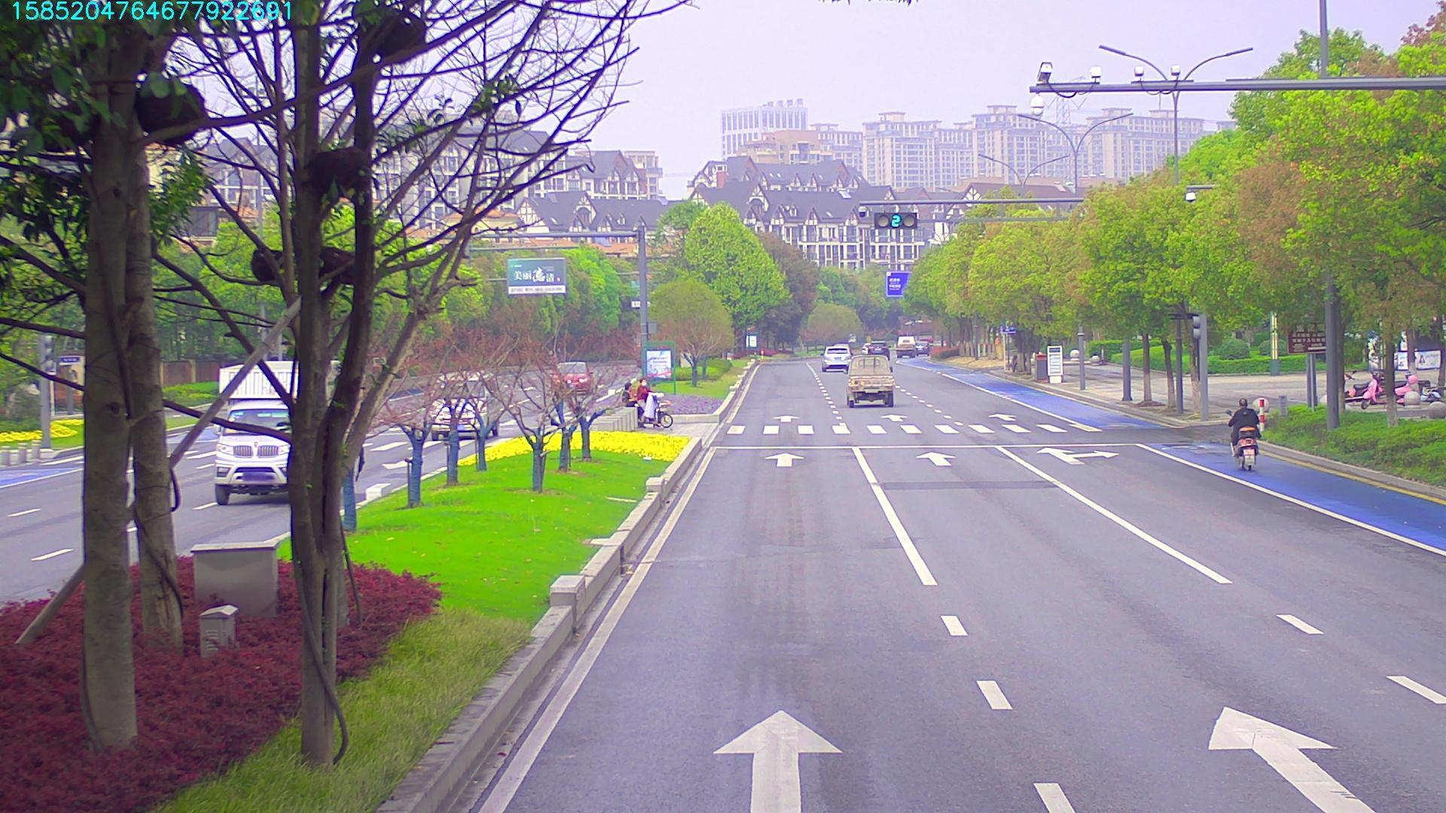green: (875, 213, 921, 230)
